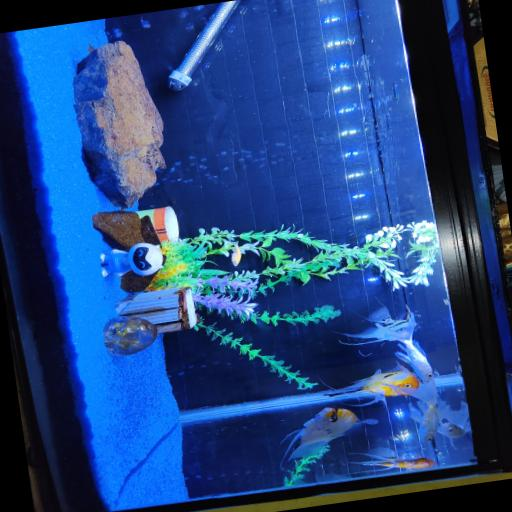Fish: (280, 407, 376, 463), (374, 314, 432, 381), (383, 378, 439, 441), (338, 362, 418, 405), (338, 306, 413, 344), (348, 446, 433, 470), (436, 401, 469, 437), (231, 241, 241, 265)
